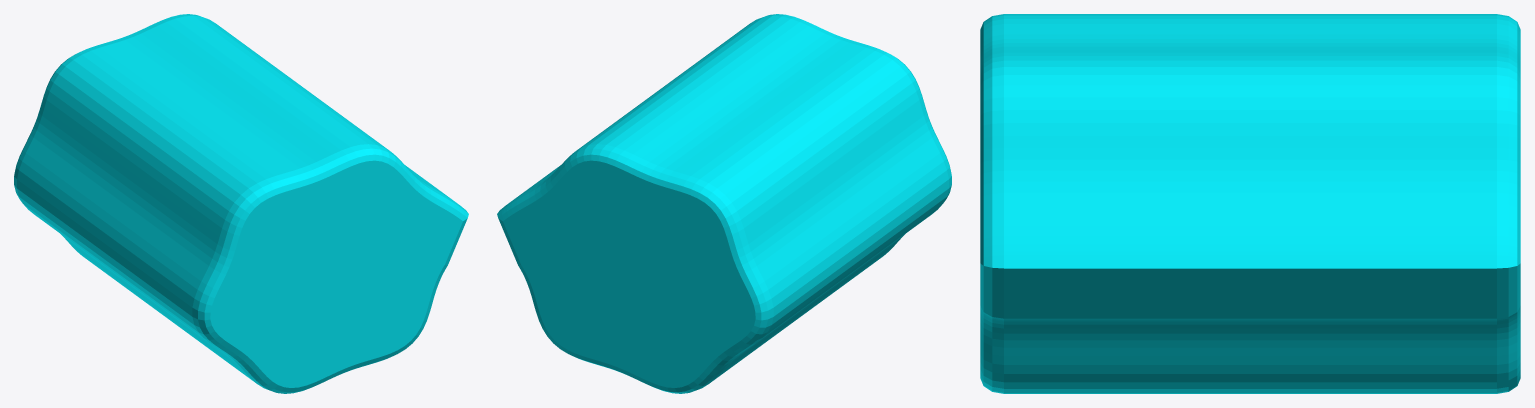
The model's file is 1773366833505-Extruded_Form.glb.
3 renders of one model, left to right at view 1: azimuth 30°, elevation 25°; view 2: azimuth 150°, elevation 25°; view 3: azimuth 270°, elevation 25°, orthographic. The views are drawn at different scales.
Size of the model in its own units: 2.46 by 1.97 by 3.
